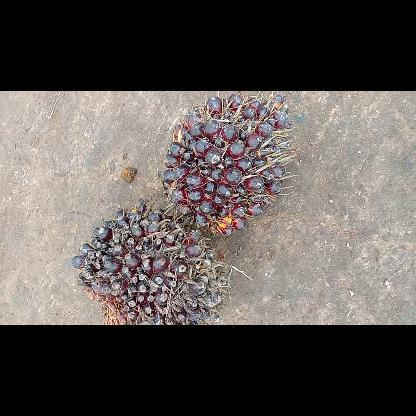TBS mentah: (70, 204, 228, 324), (165, 92, 295, 236)
